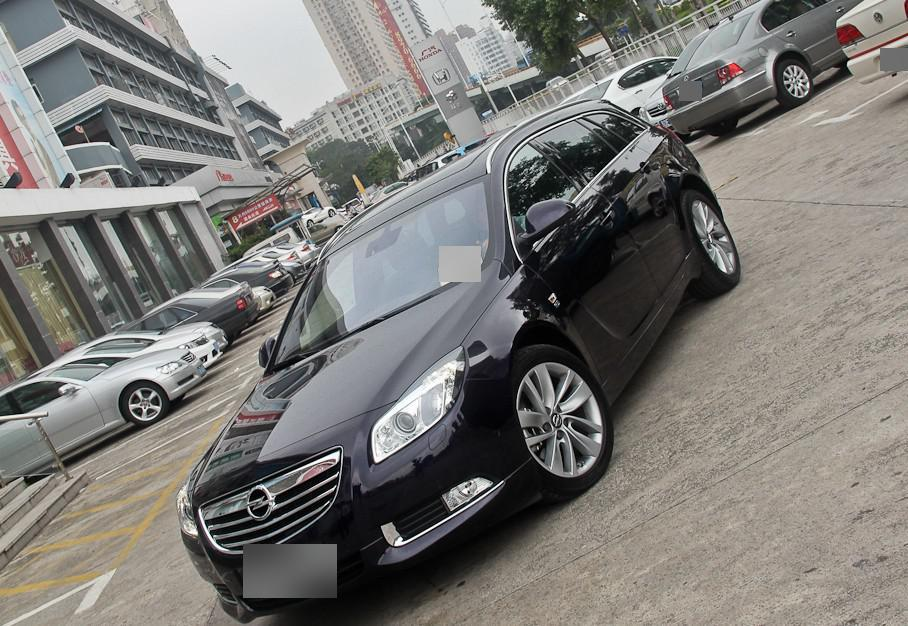Wagon: (176, 99, 741, 623)
